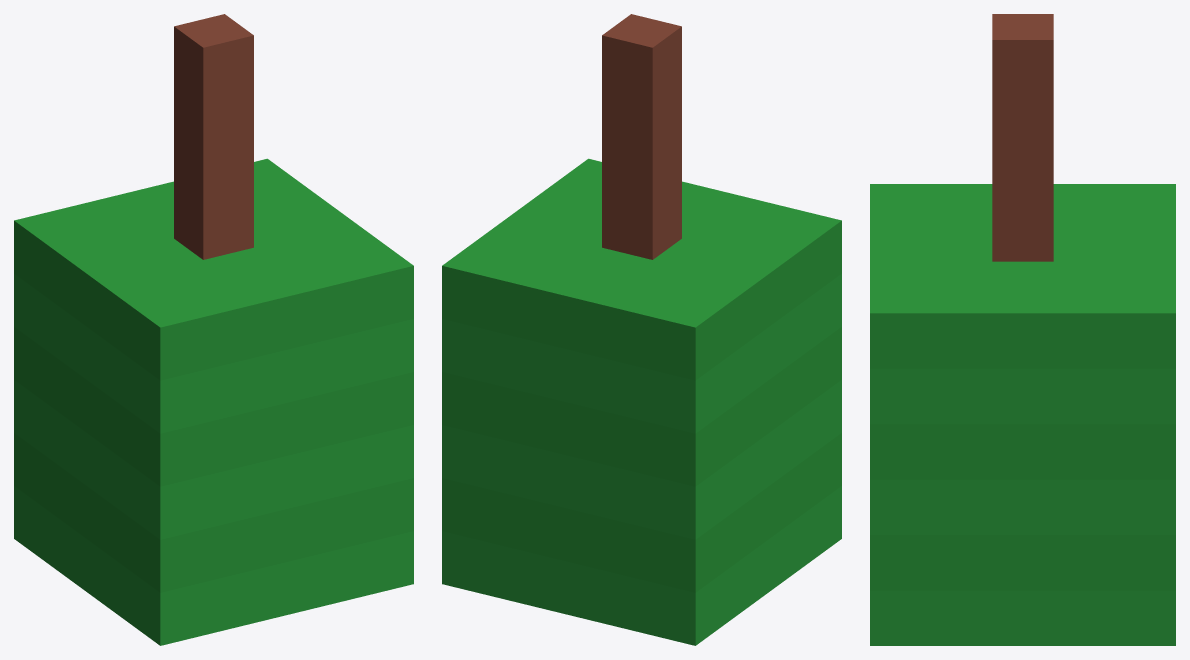
Rendered from tree.obj.
3 renders of one model, left to right at view 1: azimuth 30°, elevation 25°; view 2: azimuth 150°, elevation 25°; view 3: azimuth 270°, elevation 25°, orthographic. The views are drawn at different scales.
Bounding box in the file's own units: 0.5 × 1 × 0.5.
